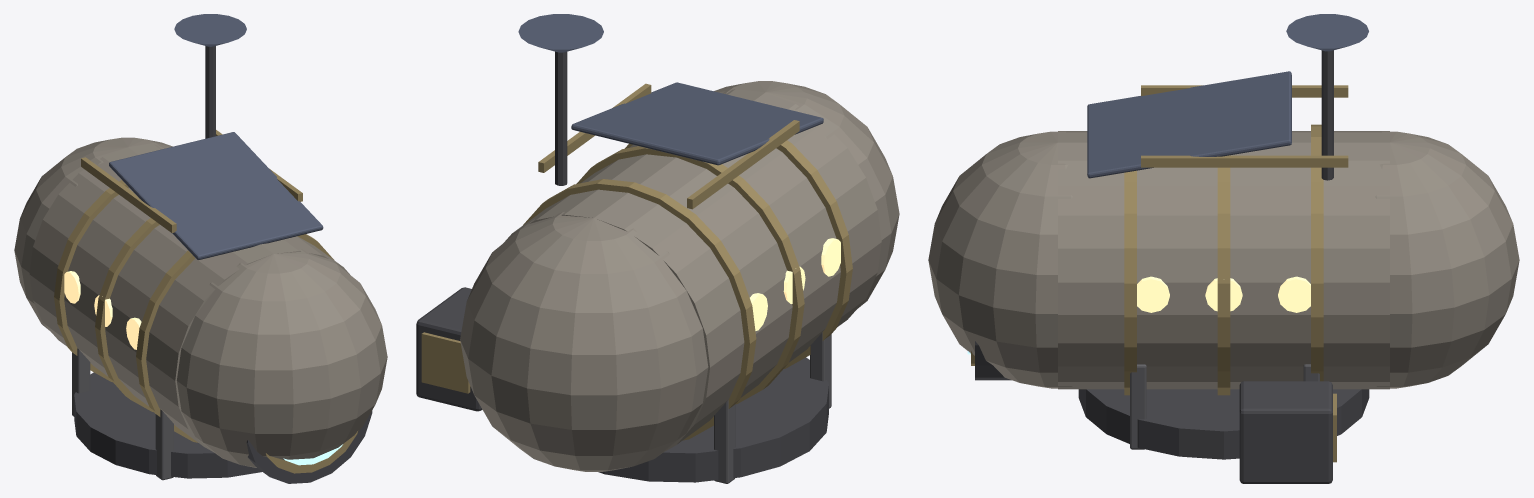
Rendered from hab_module.glb.
3 renders of one model, left to right at view 1: azimuth 30°, elevation 25°; view 2: azimuth 150°, elevation 25°; view 3: azimuth 270°, elevation 25°, orthographic. The views are drawn at different scales.
Visible parts, largest first — view 1: capF, hull, solar, skirt, capB, rib-0.9, rib0.0, rib0.9, dish, airdrum, solarframe2, leg3.8 (+4 smaller); view 2: capB, hull, solar, skirt, capF, rib0.9, rib0.0, power, rib-0.9, dish, pwrvent, antmast (+5 smaller); view 3: hull, capB, capF, solar, skirt, power, rib0.0, rib0.9, rib-0.9, solarframe, dish, antmast (+5 smaller).
Boxes of the visible parts, x1=… form: capF: x1=176, y1=249, x2=387, y2=467; hull: x1=29, y1=144, x2=349, y2=452; solar: x1=109, y1=132, x2=323, y2=259; skirt: x1=74, y1=372, x2=261, y2=478; capB: x1=14, y1=137, x2=172, y2=331; rib-0.9: x1=136, y1=234, x2=333, y2=442; rib0.0: x1=95, y1=218, x2=159, y2=412; rib0.9: x1=54, y1=180, x2=128, y2=382; dish: x1=174, y1=14, x2=246, y2=46; airdrum: x1=246, y1=410, x2=372, y2=483; solarframe2: x1=81, y1=157, x2=176, y2=232; leg3.8: x1=155, y1=409, x2=173, y2=480; capB: x1=460, y1=212, x2=708, y2=471; hull: x1=504, y1=89, x2=881, y2=451; solar: x1=571, y1=82, x2=823, y2=165; skirt: x1=598, y1=357, x2=828, y2=482; capF: x1=714, y1=81, x2=899, y2=308; rib0.9: x1=523, y1=179, x2=756, y2=440; rib0.0: x1=576, y1=146, x2=804, y2=404; power: x1=416, y1=287, x2=482, y2=411; rib-0.9: x1=625, y1=140, x2=852, y2=368; dish: x1=518, y1=14, x2=603, y2=52; pwrvent: x1=421, y1=332, x2=470, y2=393; antmast: x1=555, y1=51, x2=567, y2=185; hull: x1=1058, y1=131, x2=1389, y2=389; capB: x1=1375, y1=131, x2=1519, y2=388; capF: x1=928, y1=131, x2=1072, y2=388; solar: x1=1087, y1=71, x2=1291, y2=178; skirt: x1=1078, y1=389, x2=1369, y2=459; power: x1=1239, y1=381, x2=1332, y2=483; rib0.0: x1=1217, y1=155, x2=1230, y2=395; rib0.9: x1=1311, y1=124, x2=1323, y2=381; rib-0.9: x1=1124, y1=170, x2=1136, y2=395; solarframe: x1=1141, y1=155, x2=1348, y2=167; dish: x1=1286, y1=14, x2=1368, y2=51; antmast: x1=1321, y1=50, x2=1333, y2=180.
Size of the model in its own units: 3.65 by 4.26 by 5.7.
